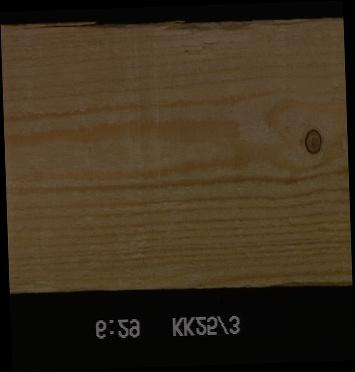dry_knot: (302, 128, 322, 155)
wave: (157, 17, 316, 38)
